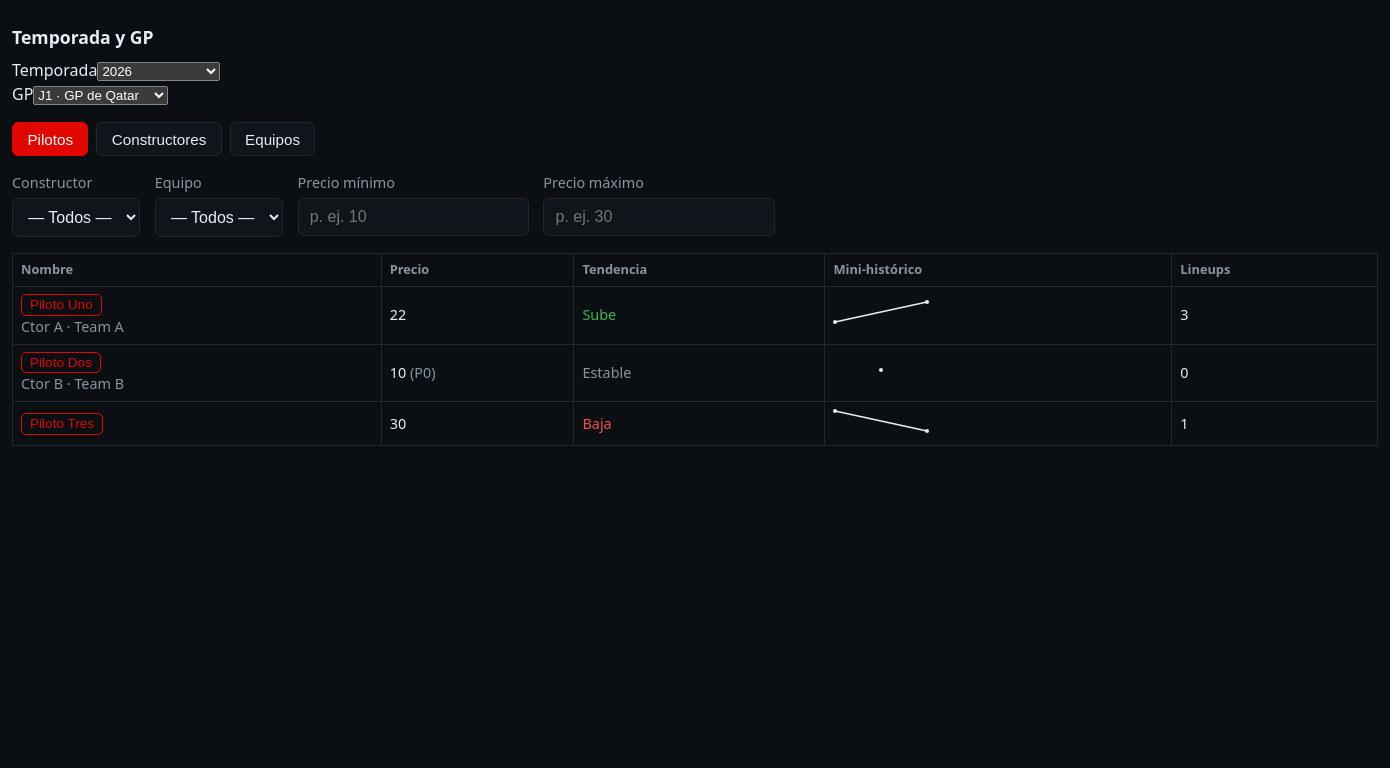
Test case: MercadoPage (US-14) › al cambiar de temporada se resetea el GP y la selección
Click the button "Piloto Uno".
click(61, 305)  # box [21, 294, 102, 316]
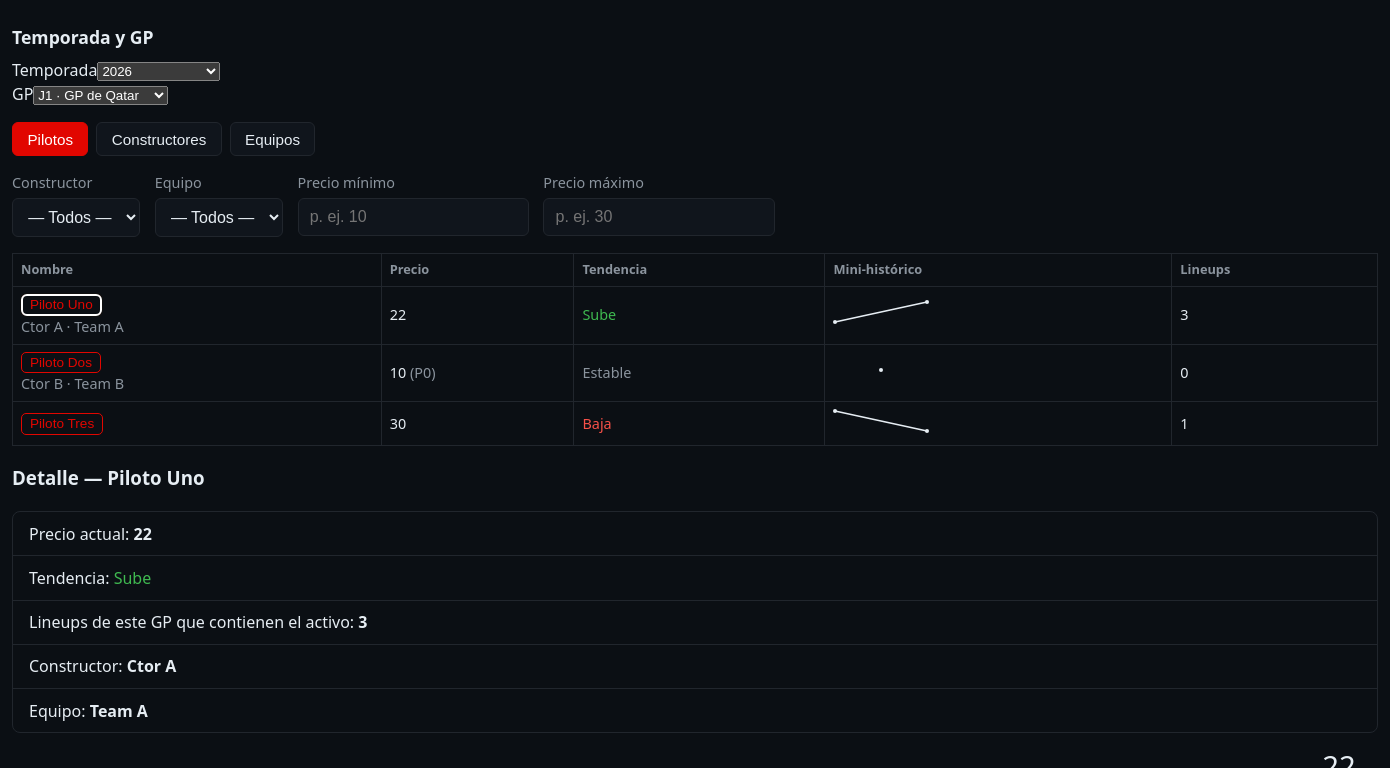
Now the heading "Detalle — Piloto Uno" is shown, box [12, 465, 204, 490]
Select "2025" in the dropdown labelled "Temporada" at x=159, y=72, box [97, 62, 220, 81]
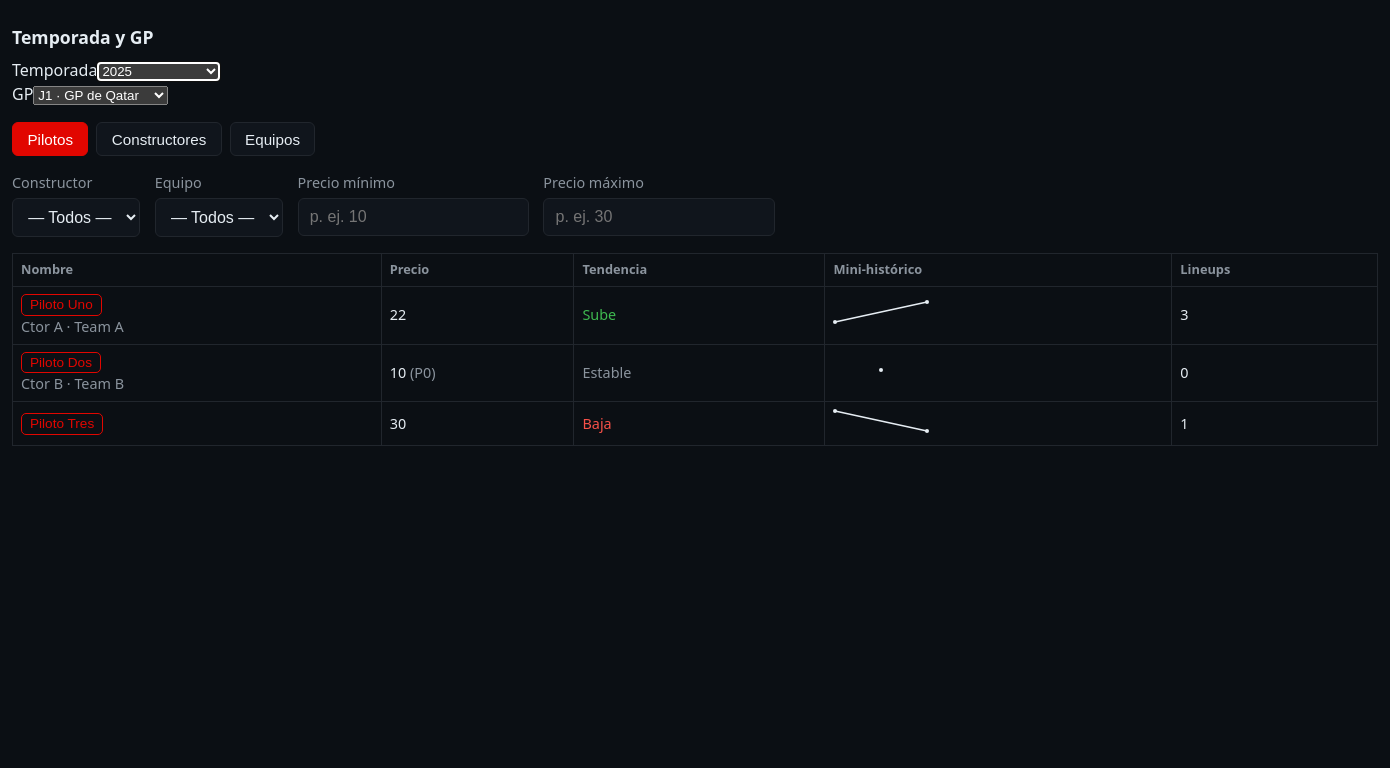
Expected: the dropdown labelled "GP" shows "J1 · GP de Qatar", [33, 86, 168, 105]
Now the heading "Detalle — Piloto Uno" is gone
